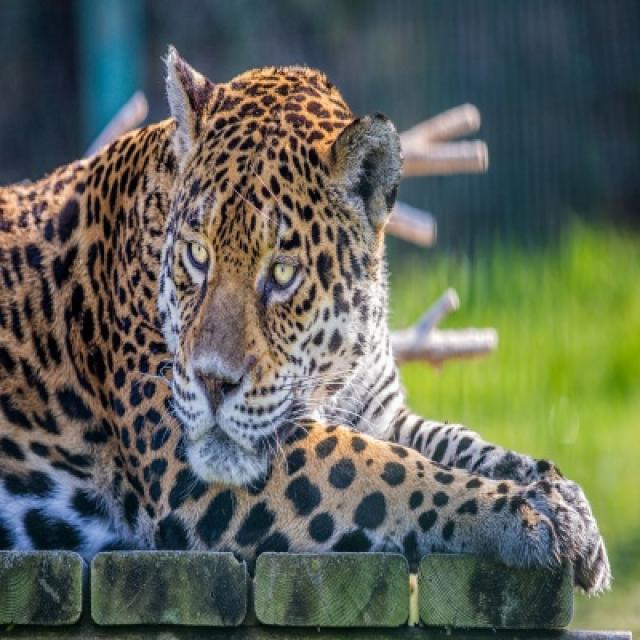Jaguar: (1, 46, 612, 595)
